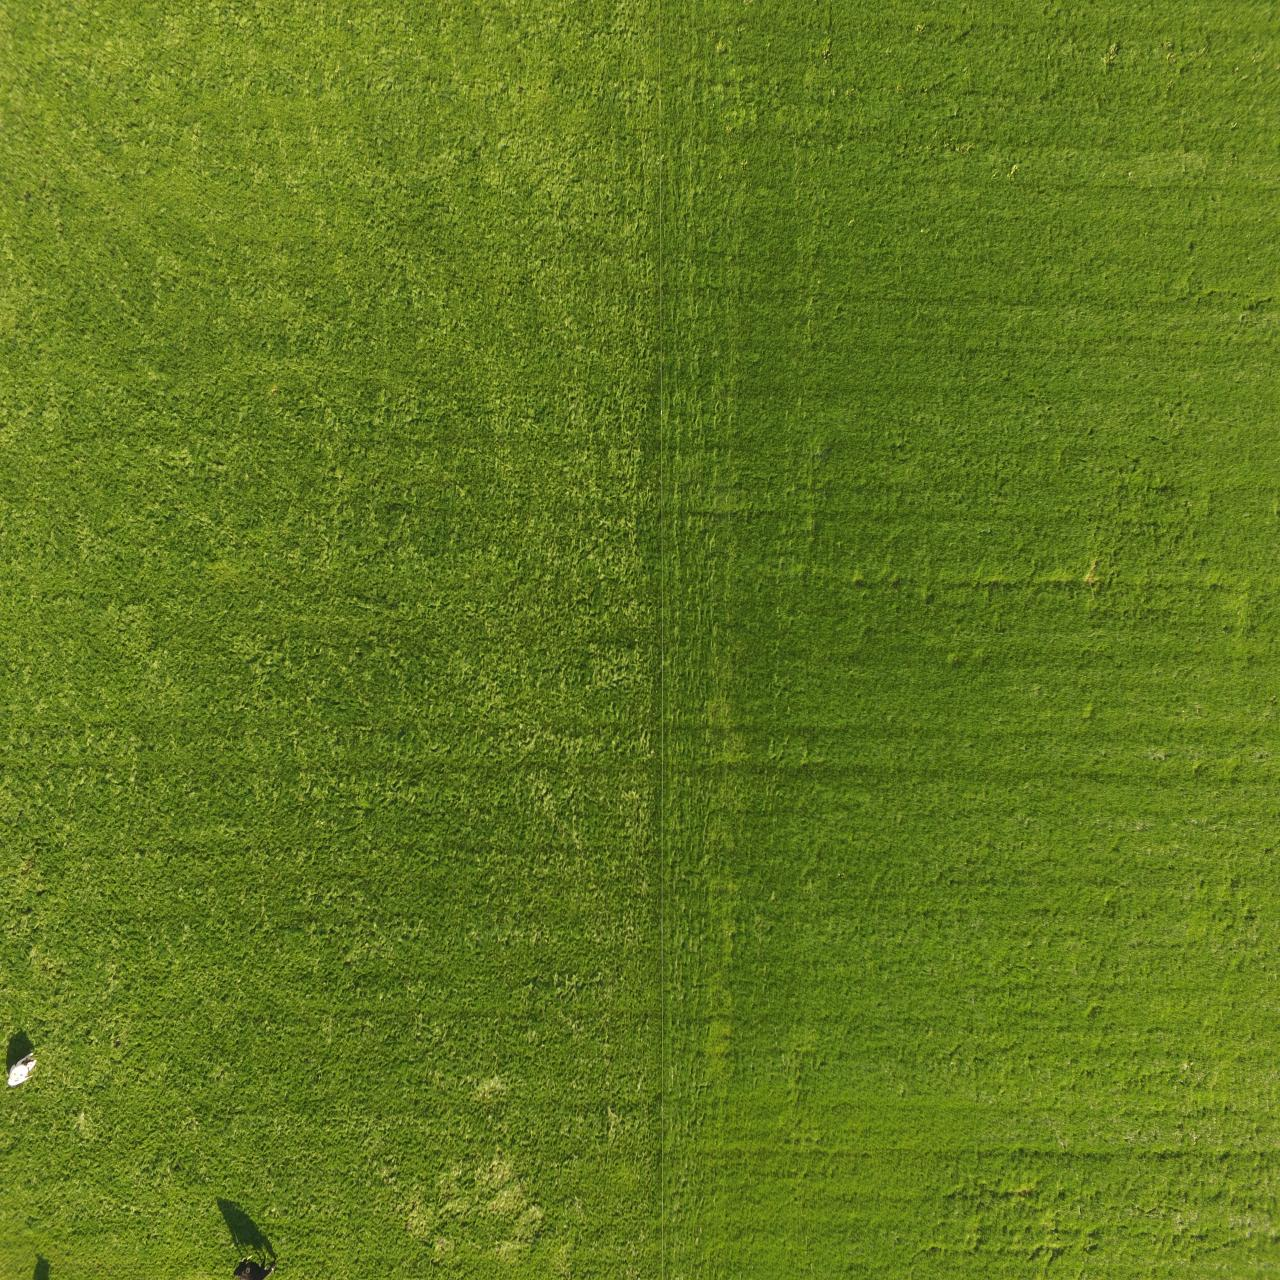cow: (231, 1251, 287, 1280), (1, 1049, 35, 1095)
